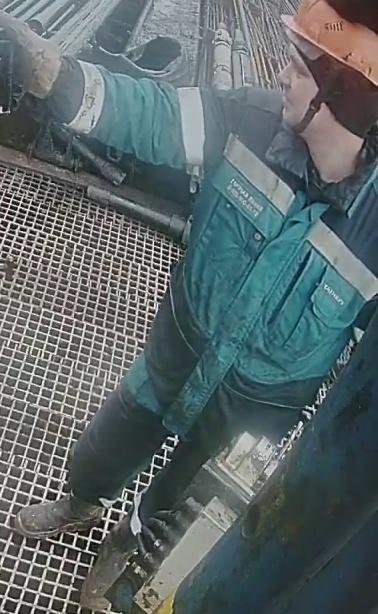gloves: (0, 9, 81, 115)
helmet: (278, 0, 378, 85)
vest: (136, 85, 377, 437)
